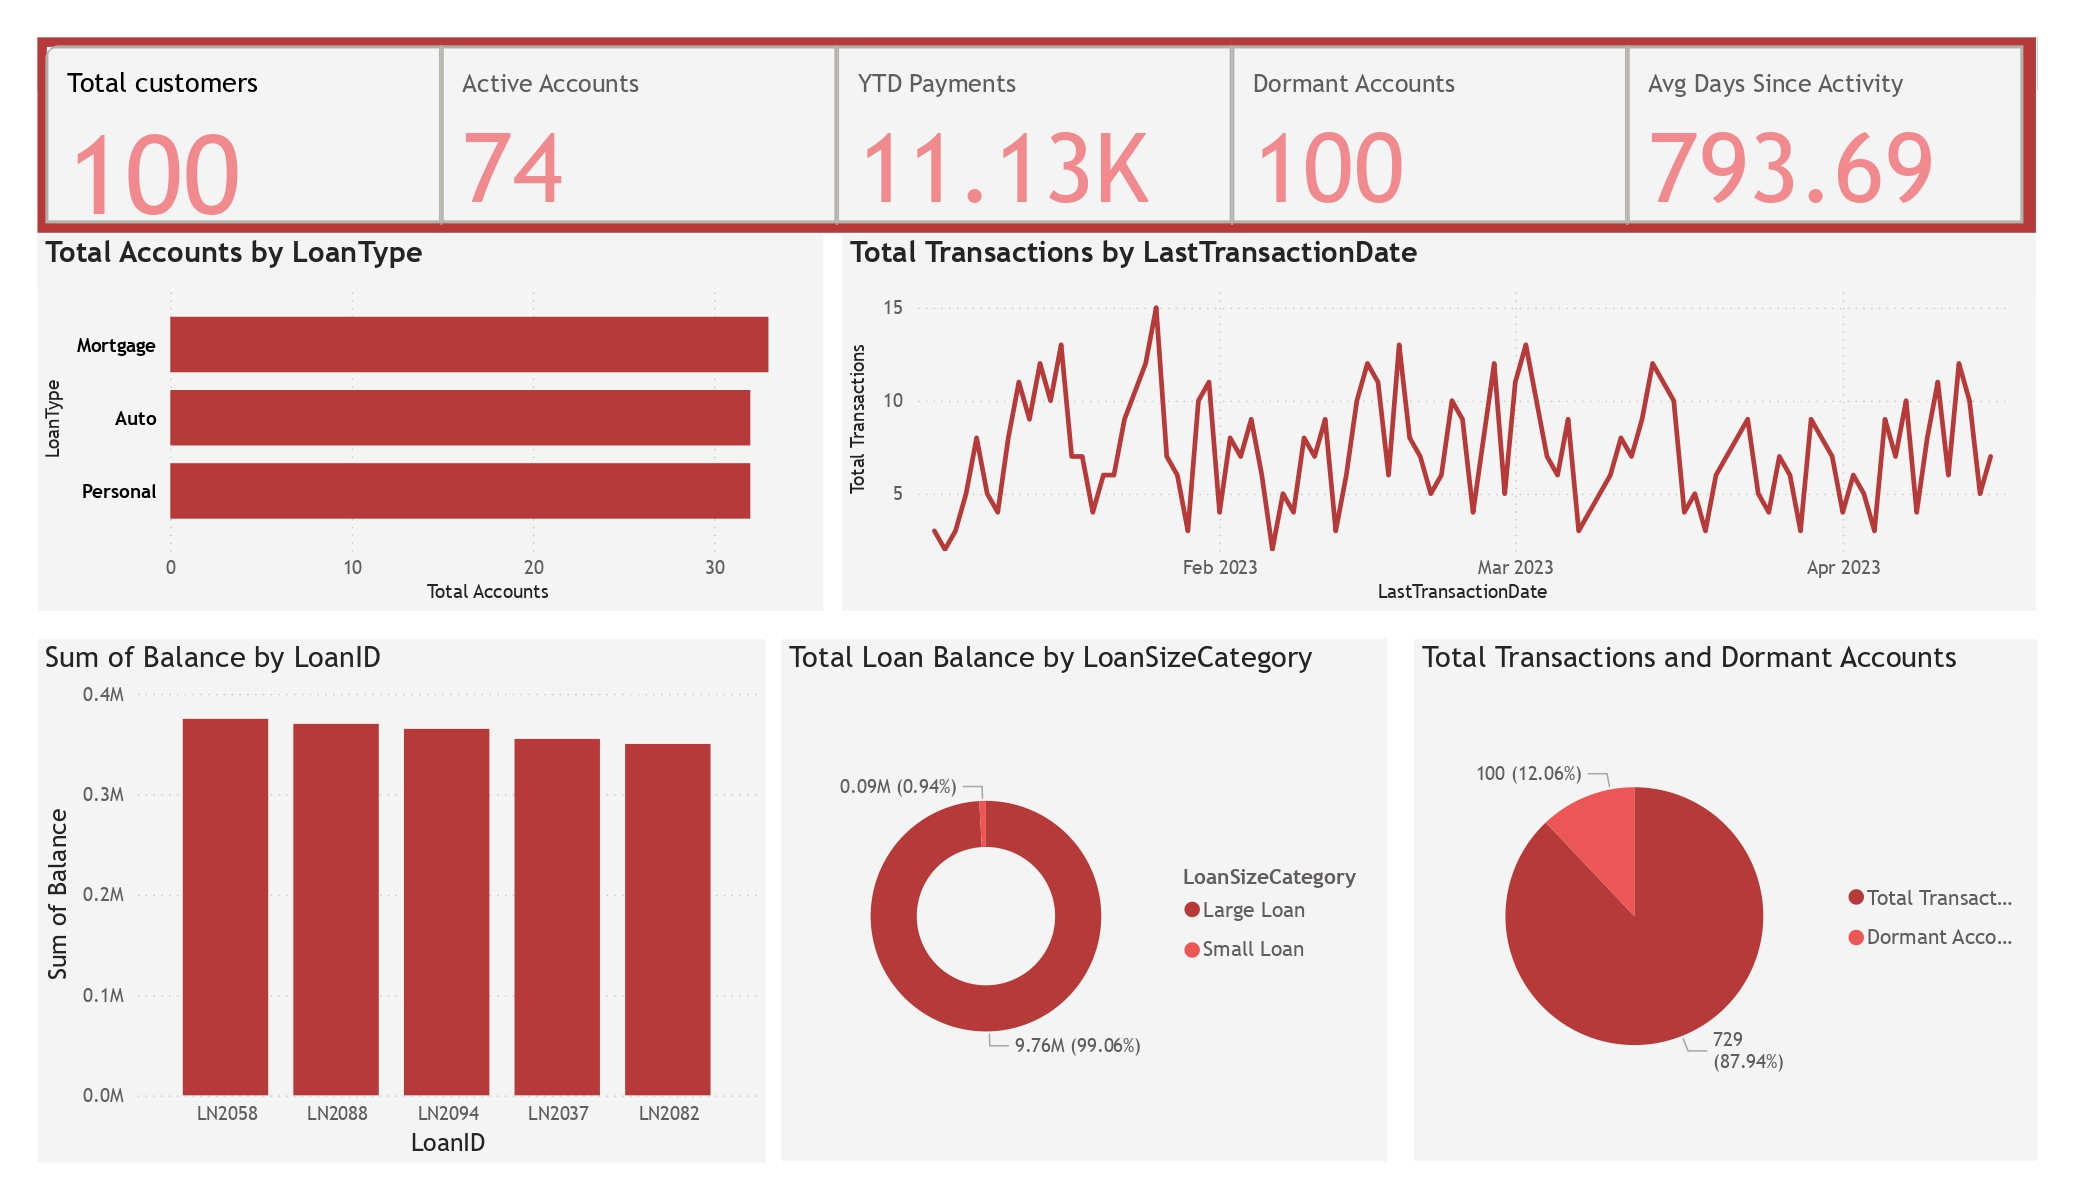

What the dashboard file says about the page in this screenshot:
{"tool":"powerbi","page":{"name":"Page 1","canvas":[1280,720],"ordinal":0},"visuals":[{"type":"cardVisual","fields":{"Data":["Customer.Total customers","Account_Details.Active Accounts","Lockbox_Data_Small.YTD Payments","Transaction_Summary.Dormant Accounts","Transaction_Summary.Avg Days Since Activity"]},"box":[0,0,1279.4,124.7],"z":0},{"type":"clusteredColumnChart","fields":{"Category":["LoanAccounts.LoanID"],"Y":["Sum(LoanAccounts.Balance)"]},"box":[0,385.4,466.3,335.2],"z":1000},{"type":"donutChart","fields":{"Category":["LoanAccounts.LoanSizeCategory"],"Y":["LoanAccounts.Total Loan Balance"]},"box":[475.6,384.9,388.1,334],"z":2000},{"type":"pieChart","fields":{"Y":["Transaction_Summary.Total Transactions","Transaction_Summary.Dormant Accounts"]},"box":[881.2,384.9,399.2,334],"z":3000},{"type":"lineChart","fields":{"Category":["Transaction_Summary.LastTransactionDate"],"Y":["Transaction_Summary.Total Transactions"]},"box":[515.4,125.7,763.5,241.8],"z":4000},{"type":"barChart","fields":{"Category":["LoanAccounts.LoanType"],"Y":["Account_Details.Total Accounts"]},"box":[0,125.7,502.6,241.8],"z":5000}]}

Visuals, with their boxes in screenshot pixels (x1, y1, x2, y2):
cardVisual - Customer.Total customers x Account_Details.Active Accounts: [38,38,2037,232]
clusteredColumnChart - LoanAccounts.LoanID x Sum(LoanAccounts.Balance): [38,640,766,1162]
donutChart - LoanAccounts.LoanSizeCategory x LoanAccounts.Total Loan Balance: [781,639,1387,1161]
pieChart - Transaction_Summary.Total Transactions x Transaction_Summary.Dormant Accounts: [1414,639,2038,1161]
lineChart - Transaction_Summary.LastTransactionDate x Transaction_Summary.Total Transactions: [843,234,2036,612]
barChart - LoanAccounts.LoanType x Account_Details.Total Accounts: [38,234,823,612]
